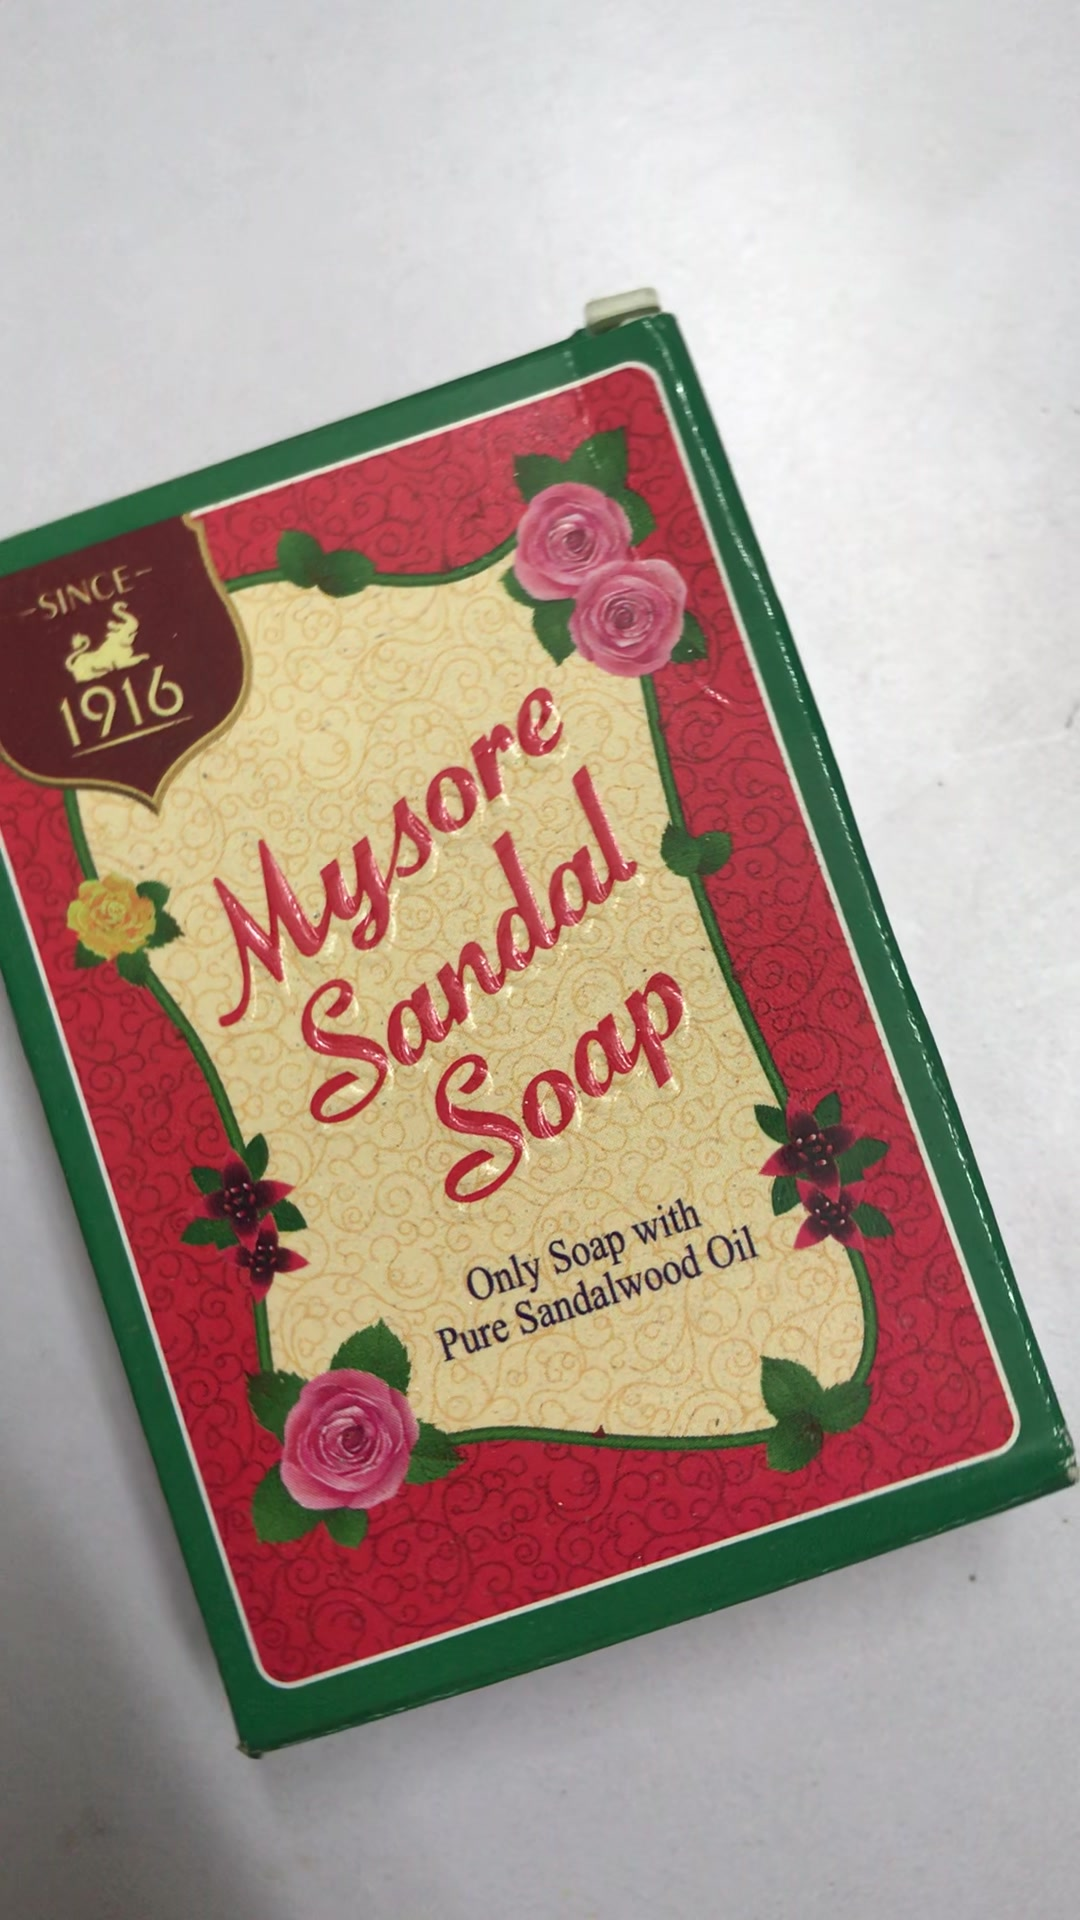mysore sandal soap: (7, 327, 1080, 1749)
